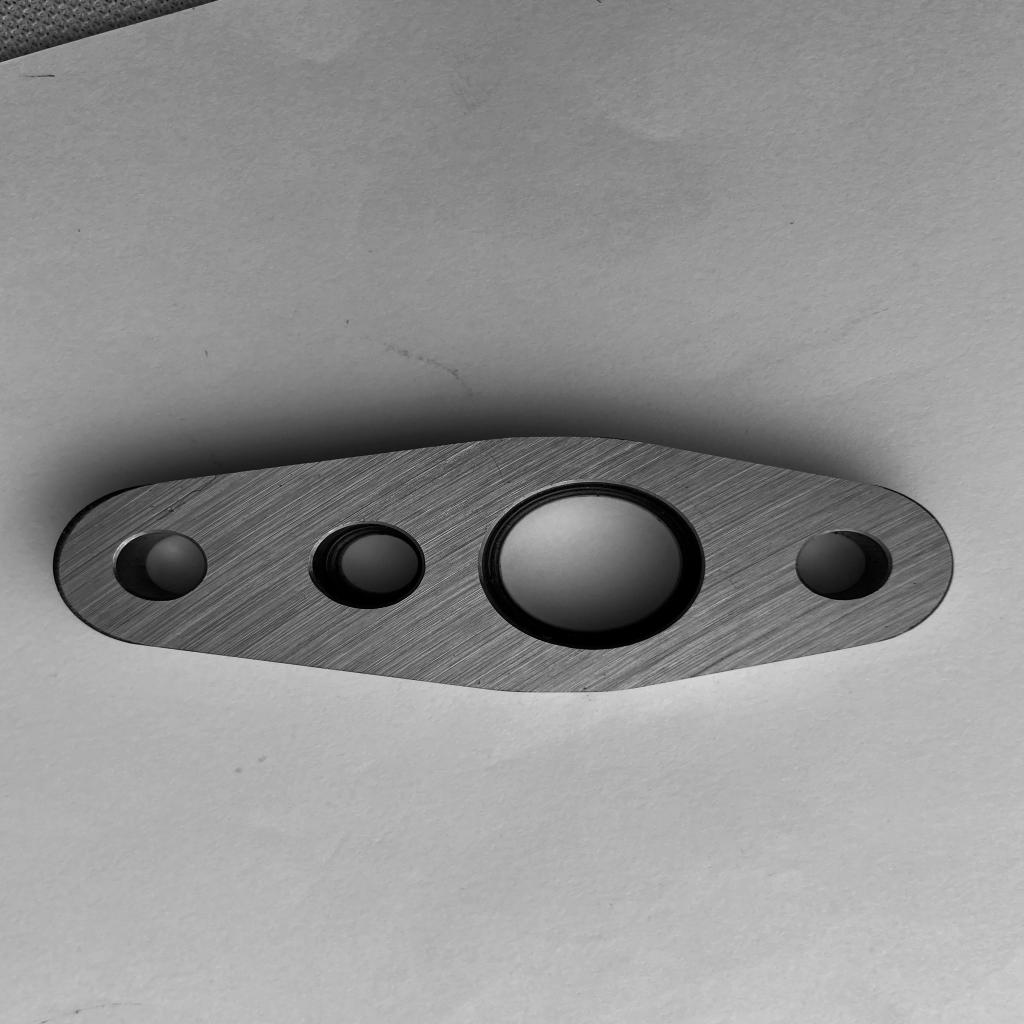chap: (164, 505, 176, 517), (474, 678, 485, 686)
lines: (178, 480, 224, 509)
